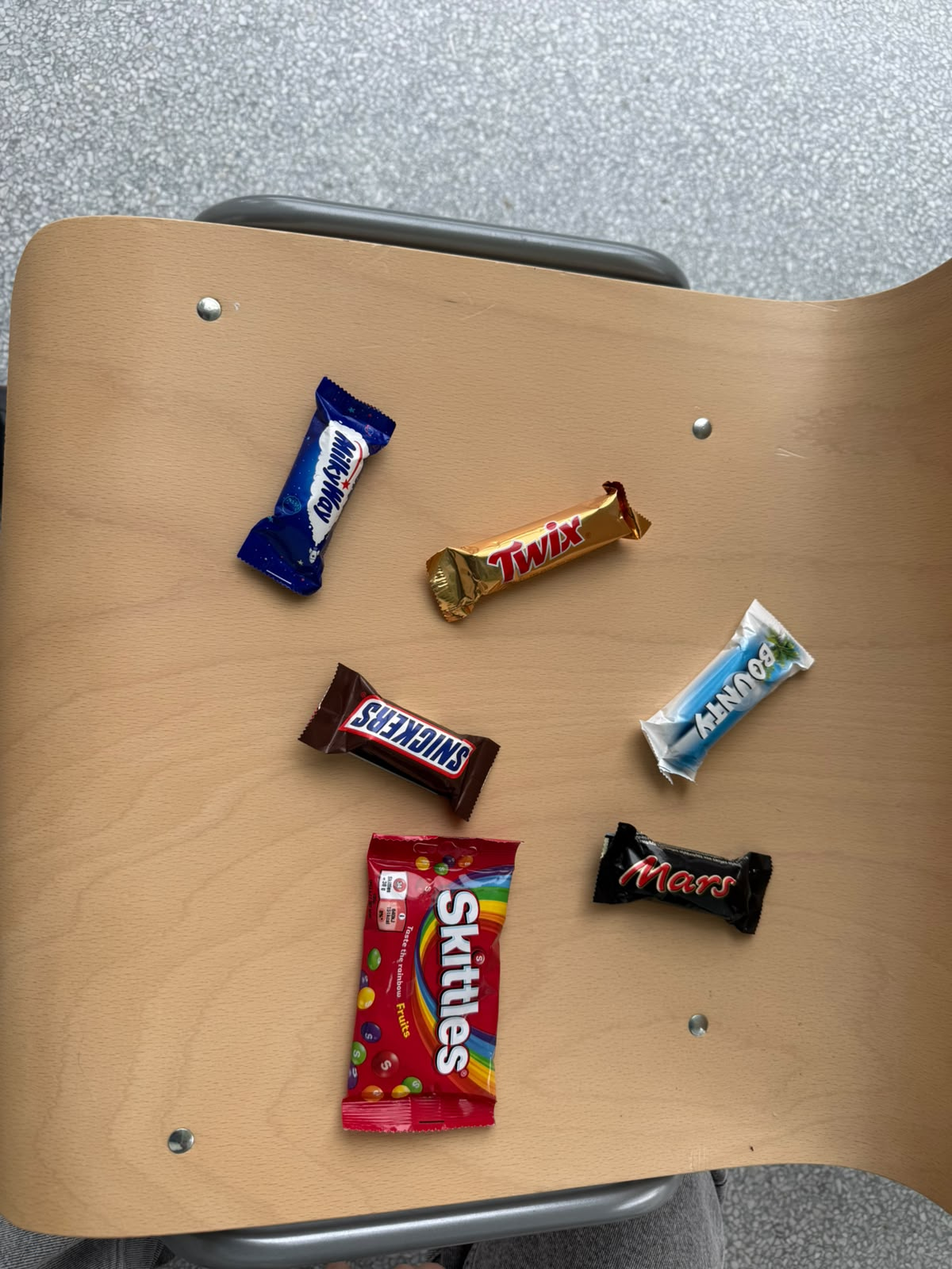Bounty: (784, 563, 896, 826)
Mars: (589, 820, 791, 950)
MilkyWay: (305, 341, 437, 590)
Skittles: (342, 825, 521, 1154)
Snickers: (311, 626, 589, 763)
Twix: (388, 568, 715, 658)
